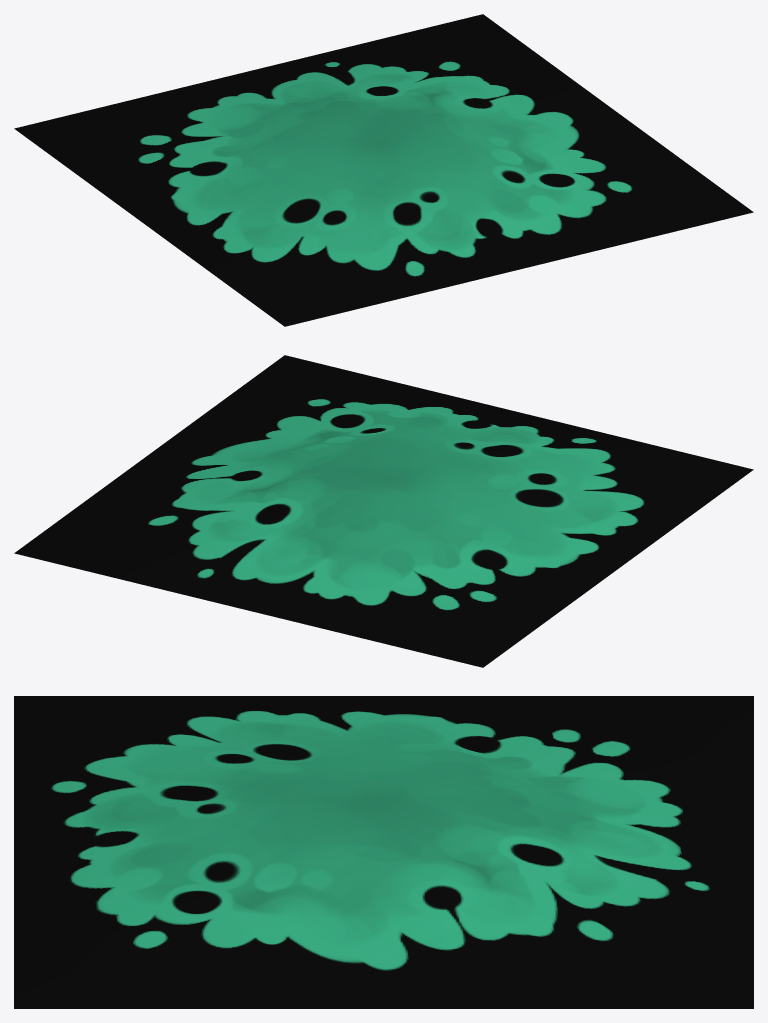
File: m_mousse1.FBX
The picture shows the model from 3 angles, top to bottom: view 1: azimuth 30°, elevation 25°; view 2: azimuth 150°, elevation 25°; view 3: azimuth 270°, elevation 25°; orthographic projection. The views are drawn at different scales.
Parts seen in each view (by area): view 1: mousse 1; view 2: mousse 1; view 3: mousse 1.
Boxes of the visible parts, <box> form: mousse 1: <box>14,14,753,326</box>; mousse 1: <box>14,355,753,667</box>; mousse 1: <box>14,696,753,1008</box>.
Bounding box in the file's own units: 19.04 × 1.36 × 19.04.
